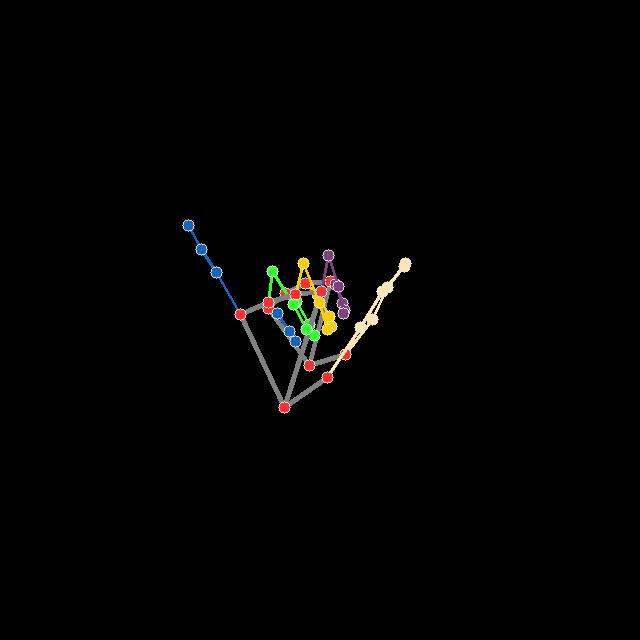skr: (180, 217, 412, 414)
